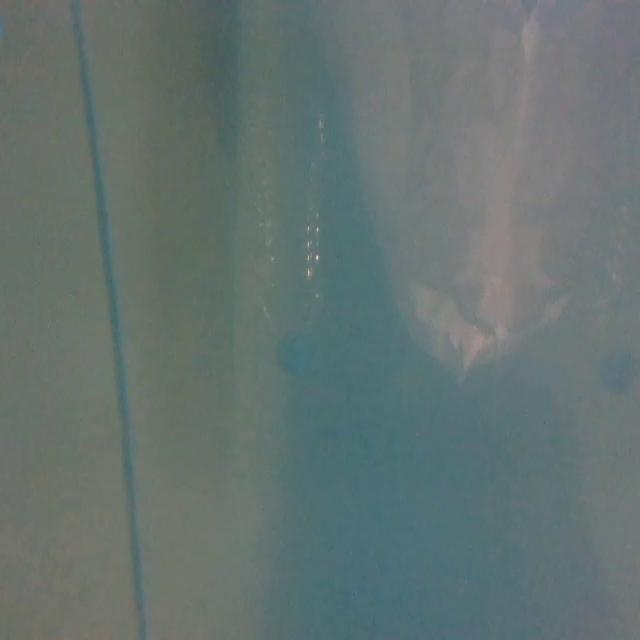plastic bags: (337, 0, 632, 370)
plastic bottle: (247, 92, 329, 378)
